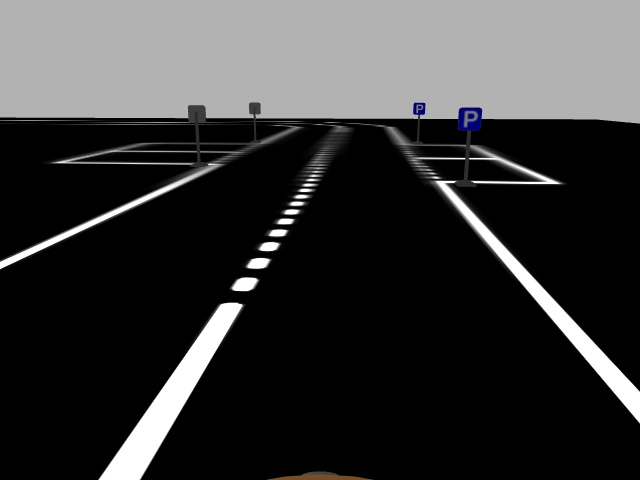parking: (456, 106, 481, 130), (412, 101, 426, 115)
